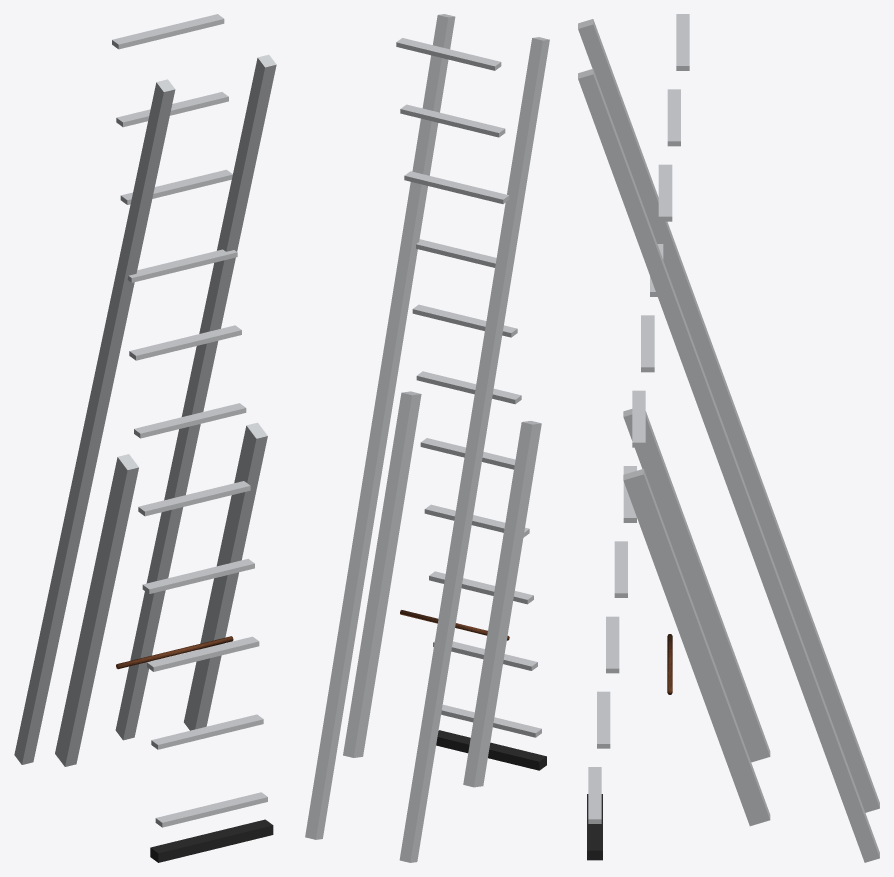
File: WK_PRP_LeaningLadder.glb
3 views of the same model, side by side, from view 1: azimuth 30°, elevation 25°; view 2: azimuth 150°, elevation 25°; view 3: azimuth 270°, elevation 25° (orthographic). The views are drawn at different scales.
Visible parts, largest first — view 1: WK_PRP_LeaningLadder_P01, WK_PRP_LeaningLadder_P02, WK_PRP_LeaningLadder_P15, WK_PRP_LeaningLadder_P16, WK_PRP_LeaningLadder_P14, WK_PRP_LeaningLadder_P08, WK_PRP_LeaningLadder_P04, WK_PRP_LeaningLadder_P07, WK_PRP_LeaningLadder_P03, WK_PRP_LeaningLadder_P05, WK_PRP_LeaningLadder_P06, WK_PRP_LeaningLadder_P09 (+5 smaller); view 2: WK_PRP_LeaningLadder_P01, WK_PRP_LeaningLadder_P02, WK_PRP_LeaningLadder_P15, WK_PRP_LeaningLadder_P16, WK_PRP_LeaningLadder_P14, WK_PRP_LeaningLadder_P11, WK_PRP_LeaningLadder_P12, WK_PRP_LeaningLadder_P13, WK_PRP_LeaningLadder_P09, WK_PRP_LeaningLadder_P08, WK_PRP_LeaningLadder_P03, WK_PRP_LeaningLadder_P10 (+4 smaller); view 3: WK_PRP_LeaningLadder_P02, WK_PRP_LeaningLadder_P01, WK_PRP_LeaningLadder_P16, WK_PRP_LeaningLadder_P15, WK_PRP_LeaningLadder_P11, WK_PRP_LeaningLadder_P08, WK_PRP_LeaningLadder_P09, WK_PRP_LeaningLadder_P04, WK_PRP_LeaningLadder_P12, WK_PRP_LeaningLadder_P05, WK_PRP_LeaningLadder_P03, WK_PRP_LeaningLadder_P06 (+2 smaller).
Part boxes in pixels (box(x1,y1,x2,y2)): WK_PRP_LeaningLadder_P01: box(14, 79, 175, 764); WK_PRP_LeaningLadder_P02: box(115, 54, 276, 740); WK_PRP_LeaningLadder_P15: box(55, 454, 138, 766); WK_PRP_LeaningLadder_P16: box(184, 422, 267, 730); WK_PRP_LeaningLadder_P14: box(150, 819, 273, 862); WK_PRP_LeaningLadder_P08: box(134, 403, 246, 438); WK_PRP_LeaningLadder_P04: box(151, 714, 263, 749); WK_PRP_LeaningLadder_P07: box(138, 481, 250, 516); WK_PRP_LeaningLadder_P03: box(155, 792, 267, 827); WK_PRP_LeaningLadder_P05: box(147, 636, 259, 671); WK_PRP_LeaningLadder_P06: box(142, 558, 254, 593); WK_PRP_LeaningLadder_P09: box(129, 325, 241, 360); WK_PRP_LeaningLadder_P01: box(399, 37, 549, 862); WK_PRP_LeaningLadder_P02: box(305, 14, 455, 839); WK_PRP_LeaningLadder_P15: box(463, 421, 541, 787); WK_PRP_LeaningLadder_P16: box(343, 391, 421, 757); WK_PRP_LeaningLadder_P14: box(436, 730, 546, 770); WK_PRP_LeaningLadder_P11: box(404, 171, 509, 203); WK_PRP_LeaningLadder_P12: box(400, 104, 505, 137); WK_PRP_LeaningLadder_P13: box(396, 38, 501, 70); WK_PRP_LeaningLadder_P09: box(412, 304, 517, 337); WK_PRP_LeaningLadder_P08: box(416, 371, 521, 404); WK_PRP_LeaningLadder_P03: box(441, 704, 541, 737); WK_PRP_LeaningLadder_P10: box(416, 239, 496, 267); WK_PRP_LeaningLadder_P02: box(578, 69, 879, 862); WK_PRP_LeaningLadder_P01: box(578, 19, 879, 812); WK_PRP_LeaningLadder_P16: box(623, 469, 770, 826); WK_PRP_LeaningLadder_P15: box(623, 409, 770, 762); WK_PRP_LeaningLadder_P11: box(658, 164, 672, 221); WK_PRP_LeaningLadder_P08: box(632, 390, 645, 447); WK_PRP_LeaningLadder_P09: box(641, 315, 654, 372); WK_PRP_LeaningLadder_P04: box(597, 691, 610, 748); WK_PRP_LeaningLadder_P12: box(667, 89, 680, 146); WK_PRP_LeaningLadder_P05: box(606, 616, 619, 673); WK_PRP_LeaningLadder_P03: box(588, 767, 601, 823); WK_PRP_LeaningLadder_P06: box(614, 541, 627, 597).
Bounding box in the file's own units: 0.61 × 3.27 × 1.13.
Materials: 3 (1 with a texture image).
